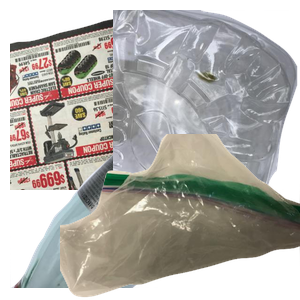glass: (10, 120, 224, 300)
paper: (10, 15, 250, 195)
plastic: (113, 10, 300, 190)
trash: (60, 134, 300, 300)
